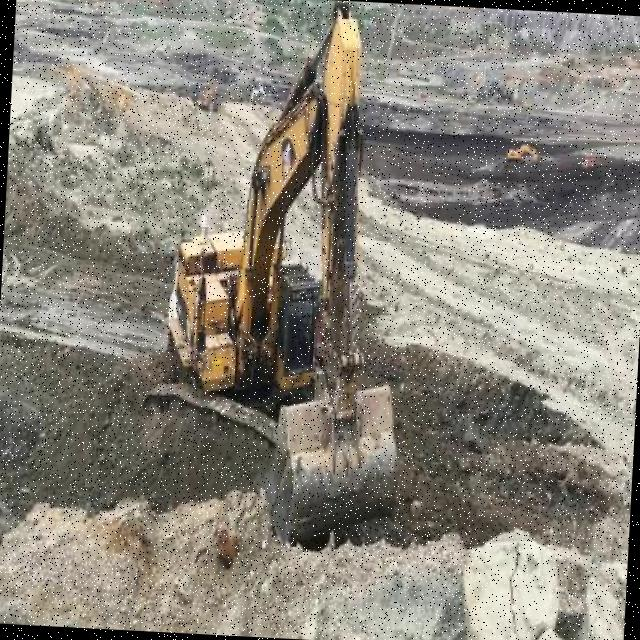Excavator: (134, 0, 428, 547), (504, 144, 542, 164)
